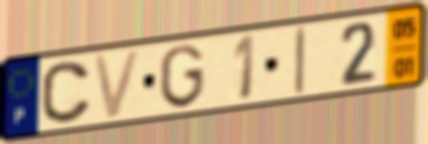1: (231, 32, 256, 105)
2: (338, 20, 378, 87)
C: (39, 60, 95, 127)
G: (157, 41, 207, 110)
I: (293, 24, 308, 98)
V: (90, 46, 145, 123)
